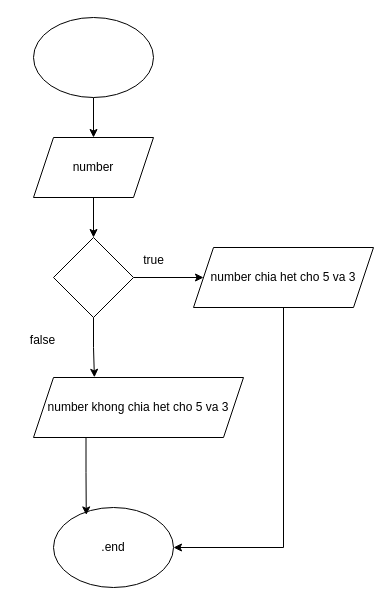
Image size: 391x605. Some labels were removed from this diagram. The box of each missing label's shape, as (x1, y1, x2, y2) in pixels:
number chia het 5 va 3?: (52, 236, 134, 318)
start: (32, 16, 154, 98)
